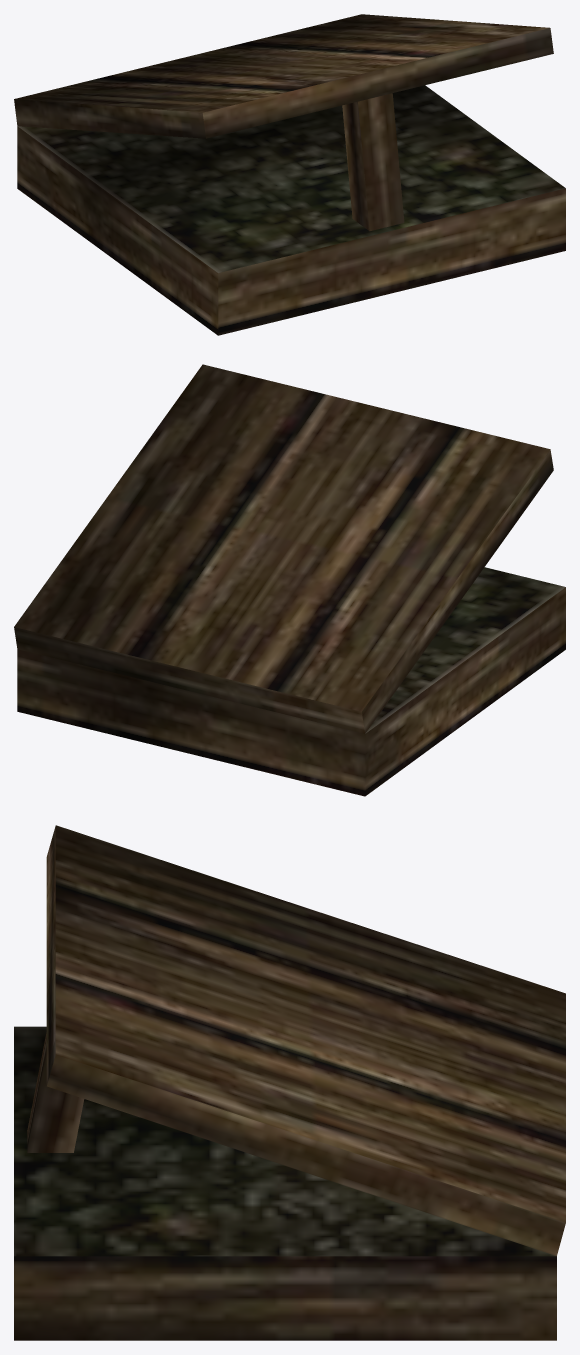
Rendered from OC_CHIMNEY_V1.glb.
3 views of the same model, one above another, from view 1: azimuth 30°, elevation 25°; view 2: azimuth 150°, elevation 25°; view 3: azimuth 270°, elevation 25° (orthographic). The views are drawn at different scales.
Visible parts, largest first — view 1: Mesh; view 2: Mesh; view 3: Mesh.
Part boxes in pixels (x1,y1,x2,y2): Mesh: (14, 14, 565, 335); Mesh: (14, 364, 565, 796); Mesh: (14, 825, 565, 1340).
Size of the model in its own units: 0.8 by 0.4652 by 0.8133.
Materials: 2 (2 with a texture image).
